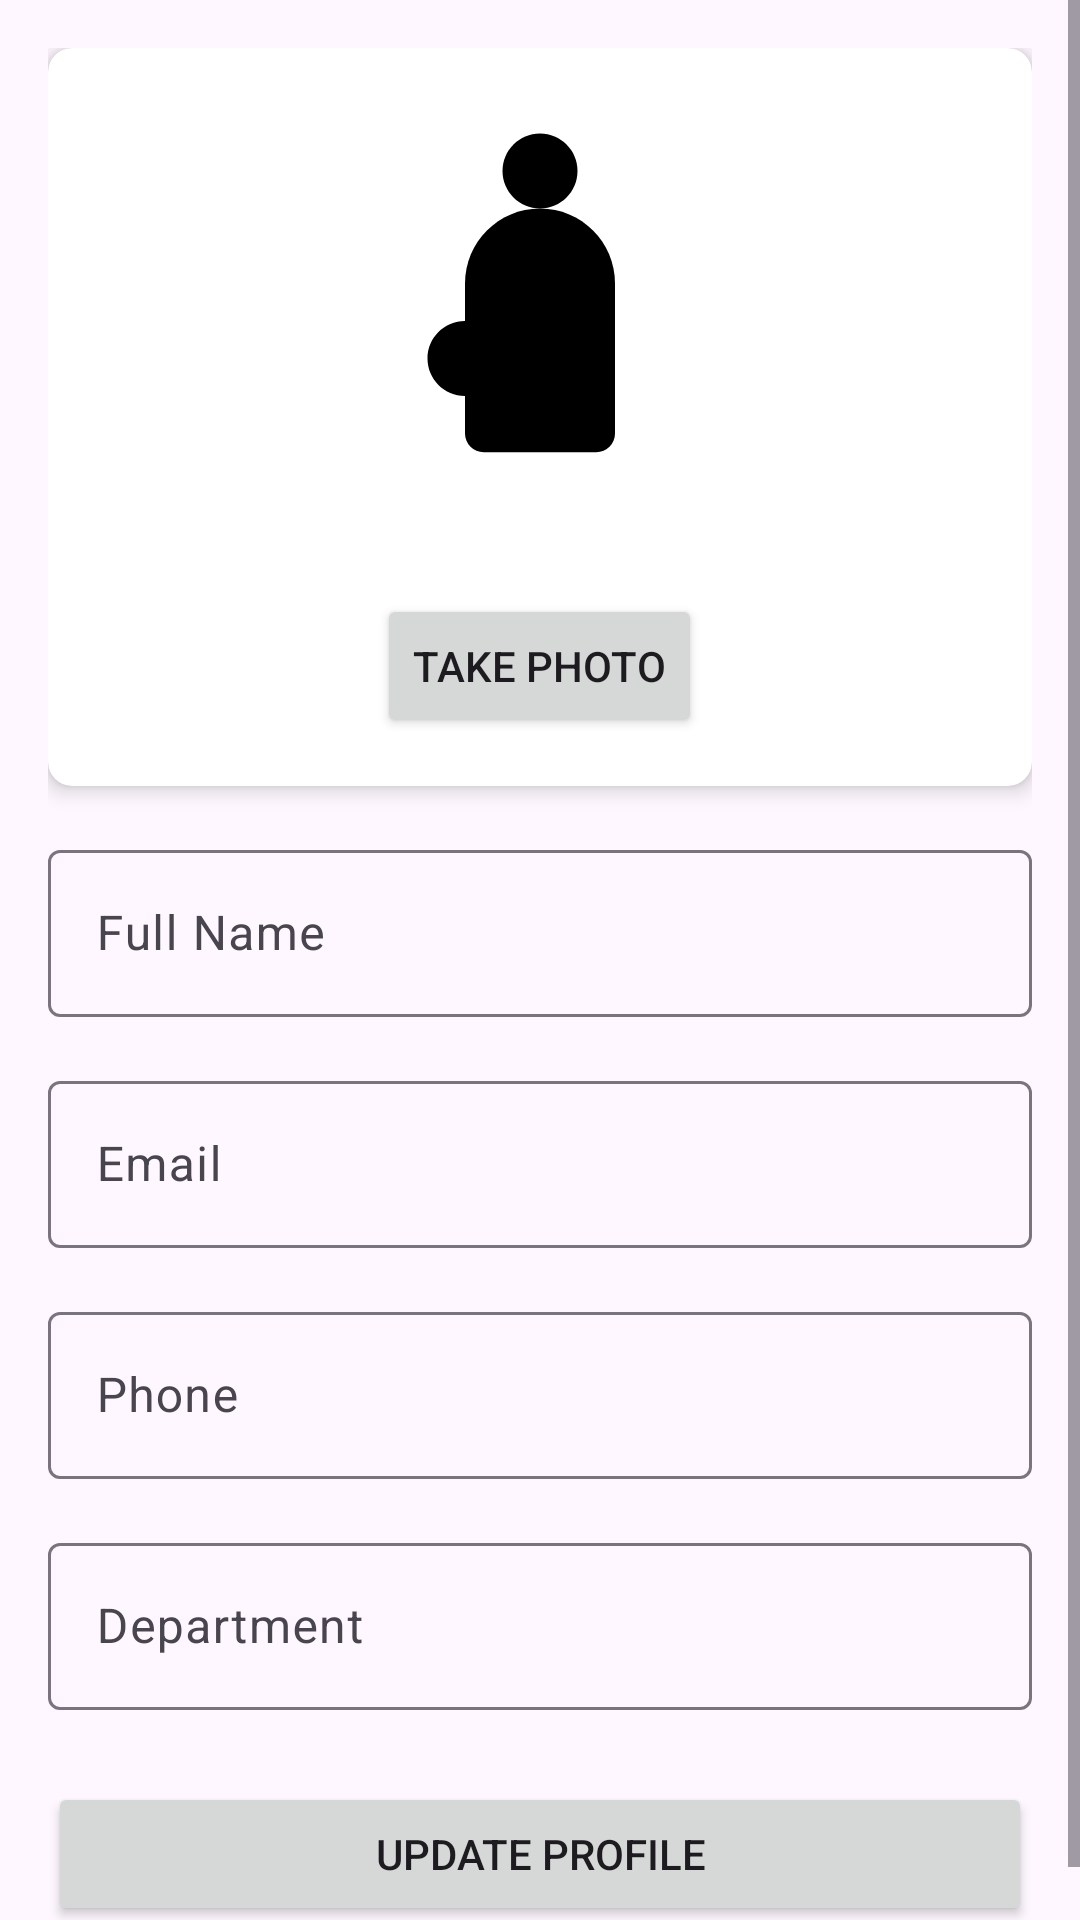

Icon click points for this 1080 x 1920 phone screenshot, format (x,y):
person: (521,293)
